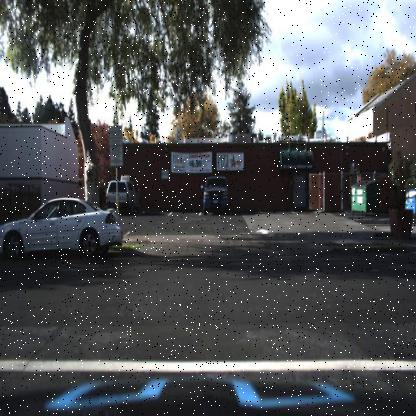car: (0, 193, 125, 264), (201, 172, 232, 213), (103, 178, 136, 210)
